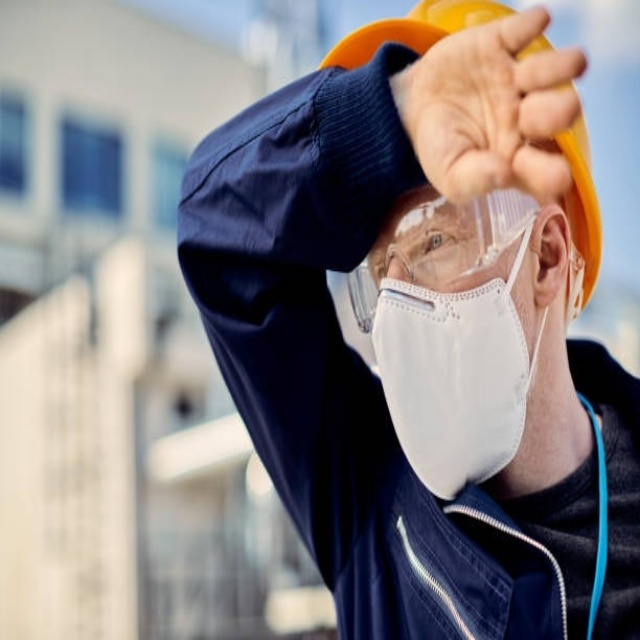Gafas: (343, 187, 553, 340)
Mascara: (366, 270, 539, 502)
Sin_guantes: (394, 3, 591, 216)
